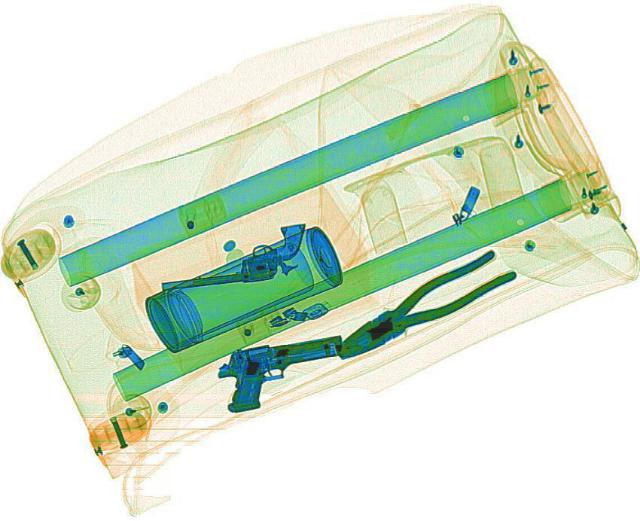Gun: (208, 331, 354, 411), (149, 221, 317, 290)
Pliers: (321, 244, 519, 367)
